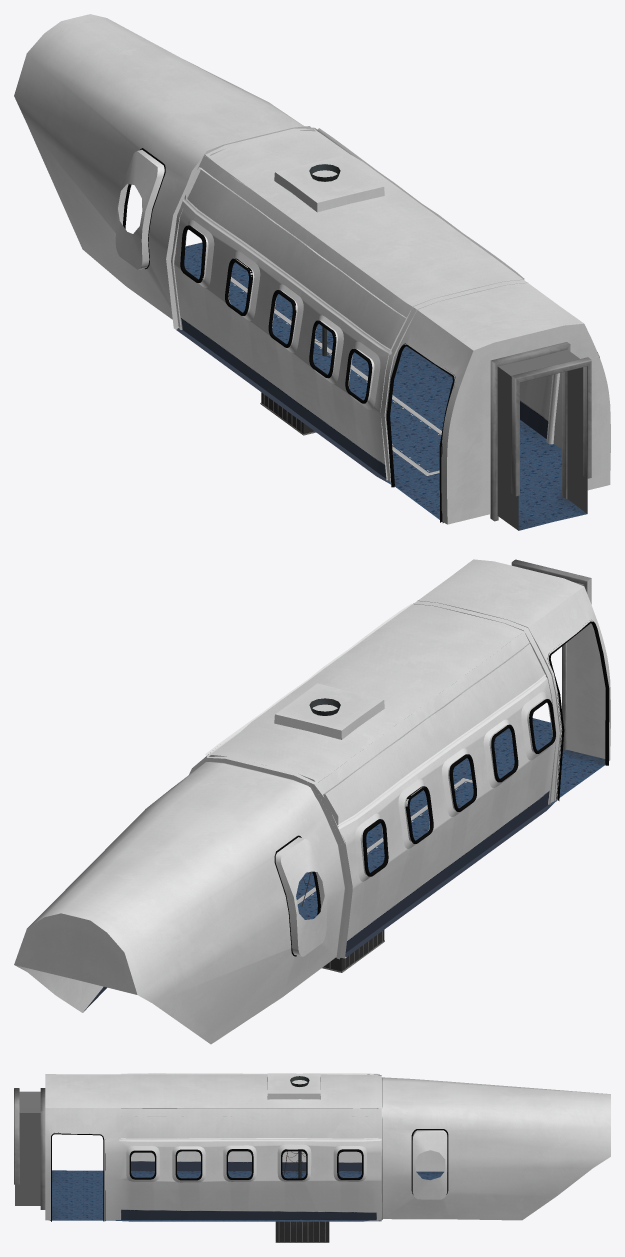
File: jicang.FBX
3 views of the same model, one above another, from view 1: azimuth 30°, elevation 25°; view 2: azimuth 150°, elevation 25°; view 3: azimuth 270°, elevation 25° (orthographic). The views are drawn at different scales.
Parts seen in each view (by area): view 1: AC313_jicang_01, AC313_jicangxiadingmian_01, AC313_jicangxiading_01; view 2: AC313_jicang_01, AC313_jicangxiadingmian_01, AC313_jicangxiading_01; view 3: AC313_jicang_01, AC313_jicangxiadingmian_01, AC313_shengzi.
Boxes of the visible parts, x1=… form: AC313_jicang_01: x1=14, y1=14, x2=610, y2=530; AC313_jicangxiadingmian_01: x1=184, y1=242, x2=586, y2=530; AC313_jicangxiading_01: x1=284, y1=331, x2=367, y2=373; AC313_jicang_01: x1=14, y1=559, x2=610, y2=1044; AC313_jicangxiadingmian_01: x1=83, y1=718, x2=605, y2=1012; AC313_jicangxiading_01: x1=296, y1=872, x2=317, y2=910; AC313_jicang_01: x1=14, y1=1073, x2=610, y2=1242; AC313_jicangxiadingmian_01: x1=52, y1=1170, x2=443, y2=1221; AC313_shengzi: x1=283, y1=1076, x2=309, y2=1178.
Bounding box in the file's own units: 261 × 334 × 1128.
